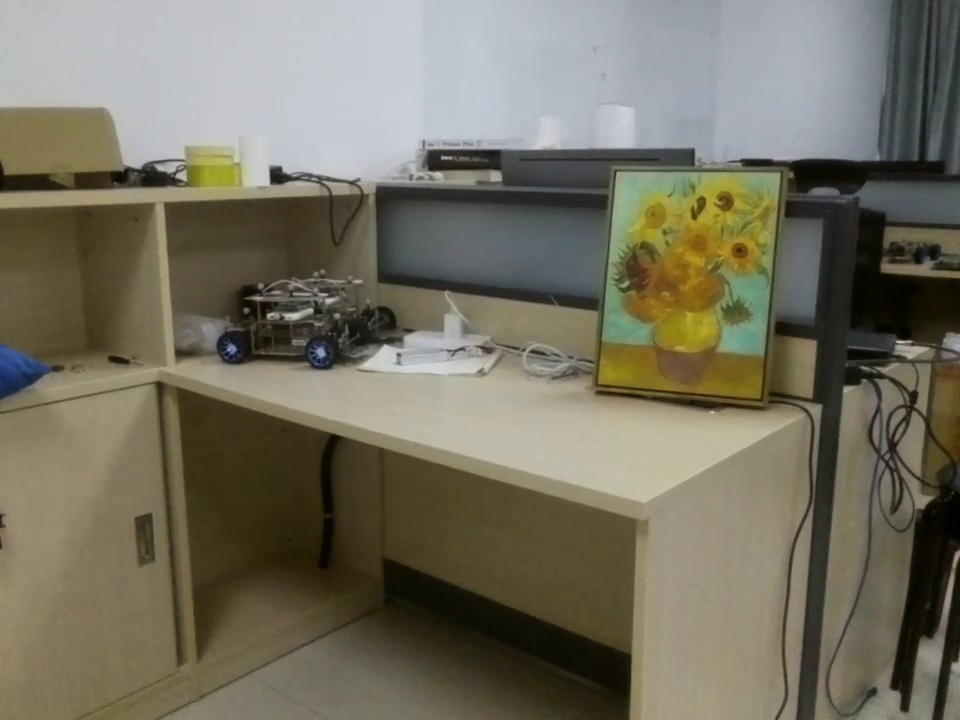painting: (601, 167, 785, 408)
